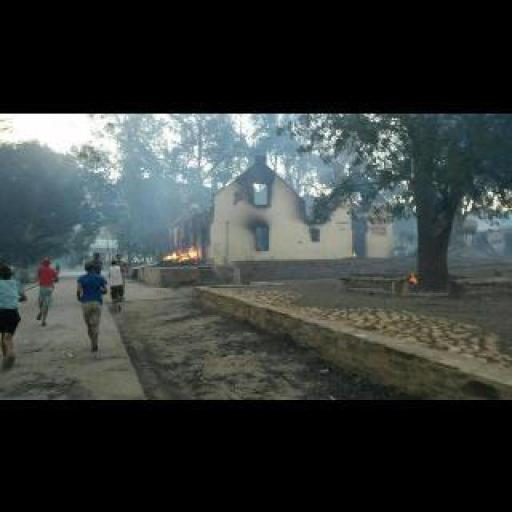smoke: (164, 248, 198, 259), (403, 268, 419, 286)
